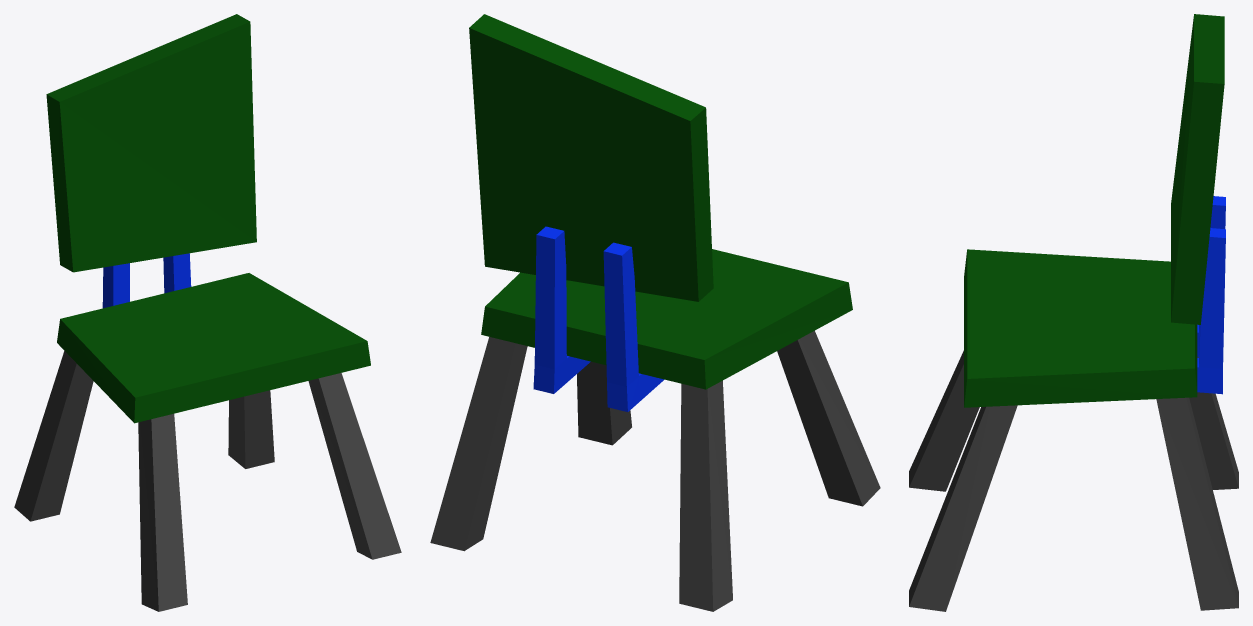
Rendered from House_Kitchen_Chair.FBX.
The picture shows the model from 3 angles, left to right: view 1: azimuth 30°, elevation 25°; view 2: azimuth 150°, elevation 25°; view 3: azimuth 270°, elevation 25°; orthographic projection. The views are drawn at different scales.
Visible parts, largest first — view 1: House_Kitchen_Chair_backSupport, House_Kitchen_Chair_seat, House_Kitchen_Chair_leg1, House_Kitchen_Chair_leg2, House_Kitchen_Chair_leg3, House_Kitchen_Chair_leg4, House_Kitchen_Chair_backConnectorLeft, House_Kitchen_Chair_backConnectorRight; view 2: House_Kitchen_Chair_backSupport, House_Kitchen_Chair_seat, House_Kitchen_Chair_leg3, House_Kitchen_Chair_leg4, House_Kitchen_Chair_leg1, House_Kitchen_Chair_backConnectorLeft, House_Kitchen_Chair_backConnectorRight, House_Kitchen_Chair_leg2; view 3: House_Kitchen_Chair_seat, House_Kitchen_Chair_backSupport, House_Kitchen_Chair_leg2, House_Kitchen_Chair_leg4, House_Kitchen_Chair_leg1, House_Kitchen_Chair_backConnectorRight, House_Kitchen_Chair_leg3, House_Kitchen_Chair_backConnectorLeft.
Part boxes in pixels (left/top/right/bottom): House_Kitchen_Chair_backSupport: left=46, top=14, right=256, bottom=272; House_Kitchen_Chair_seat: left=57, top=273, right=370, bottom=423; House_Kitchen_Chair_leg1: left=138, top=413, right=187, bottom=611; House_Kitchen_Chair_leg2: left=308, top=373, right=401, bottom=559; House_Kitchen_Chair_leg3: left=14, top=351, right=93, bottom=521; House_Kitchen_Chair_leg4: left=228, top=390, right=274, bottom=468; House_Kitchen_Chair_backConnectorLeft: left=102, top=263, right=129, bottom=308; House_Kitchen_Chair_backConnectorRight: left=163, top=253, right=191, bottom=293; House_Kitchen_Chair_backSupport: left=469, top=14, right=713, bottom=301; House_Kitchen_Chair_seat: left=481, top=249, right=852, bottom=389; House_Kitchen_Chair_leg3: left=679, top=380, right=732, bottom=611; House_Kitchen_Chair_leg4: left=430, top=337, right=527, bottom=551; House_Kitchen_Chair_leg1: left=777, top=330, right=880, bottom=506; House_Kitchen_Chair_backConnectorLeft: left=603, top=242, right=664, bottom=411; House_Kitchen_Chair_backConnectorRight: left=533, top=226, right=590, bottom=393; House_Kitchen_Chair_leg2: left=577, top=361, right=631, bottom=445; House_Kitchen_Chair_seat: left=964, top=249, right=1197, bottom=407; House_Kitchen_Chair_backSupport: left=1171, top=14, right=1224, bottom=324; House_Kitchen_Chair_leg2: left=909, top=405, right=1017, bottom=611; House_Kitchen_Chair_leg4: left=1156, top=397, right=1238, bottom=610; House_Kitchen_Chair_leg1: left=909, top=350, right=979, bottom=491; House_Kitchen_Chair_backConnectorRight: left=1197, top=228, right=1225, bottom=394; House_Kitchen_Chair_leg3: left=1189, top=357, right=1238, bottom=489; House_Kitchen_Chair_backConnectorLeft: left=1197, top=196, right=1225, bottom=356.
Bounding box in the file's own units: 107 × 188 × 109.
